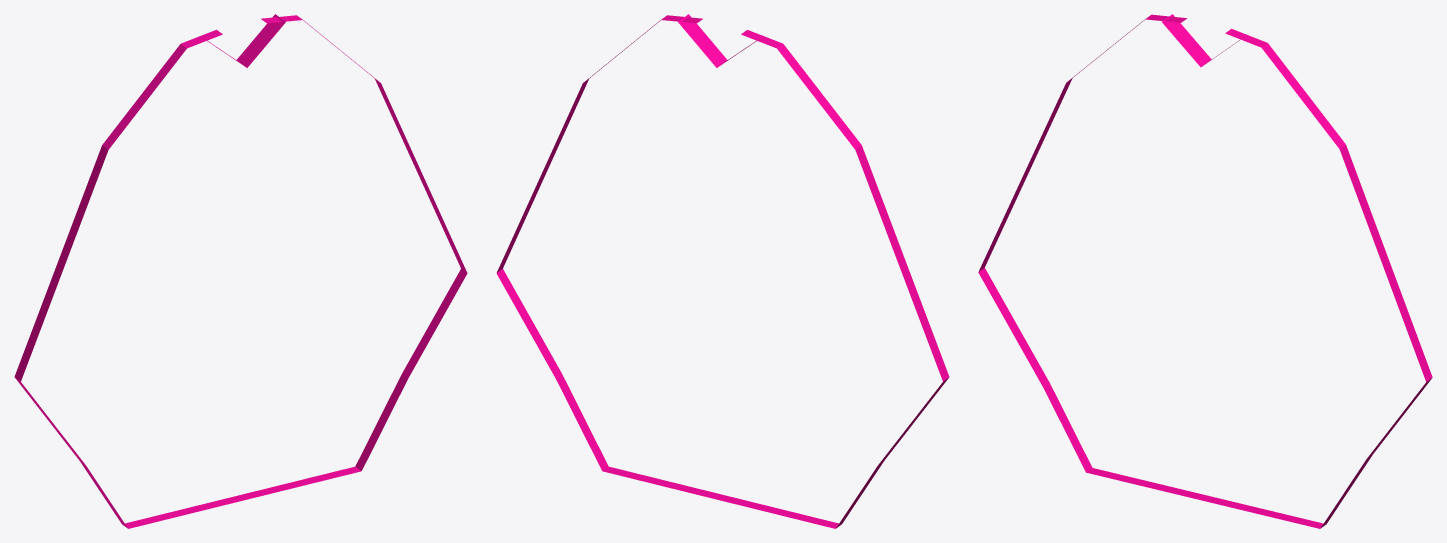
Rendered from effect_light2.FBX.
The picture shows the model from 3 angles, left to right: view 1: azimuth 30°, elevation 25°; view 2: azimuth 150°, elevation 25°; view 3: azimuth 330°, elevation 25°; orthographic projection.
Parts seen in each view (by area): view 1: Object001; view 2: Object001; view 3: Object001.
Part boxes in pixels (x1=…): Object001: x1=14, y1=14, x2=467, y2=528; Object001: x1=496, y1=14, x2=949, y2=528; Object001: x1=978, y1=14, x2=1432, y2=528.
Size of the model in its own units: 405 by 409 by 17.17.
